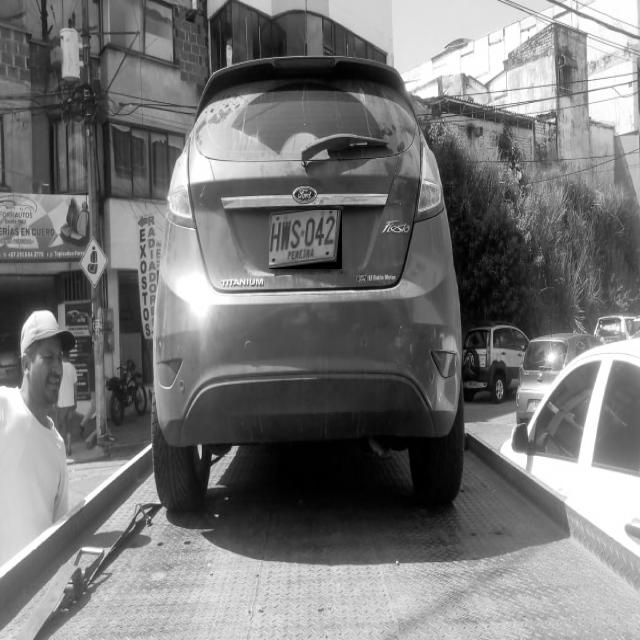plate: (269, 210, 342, 269)
